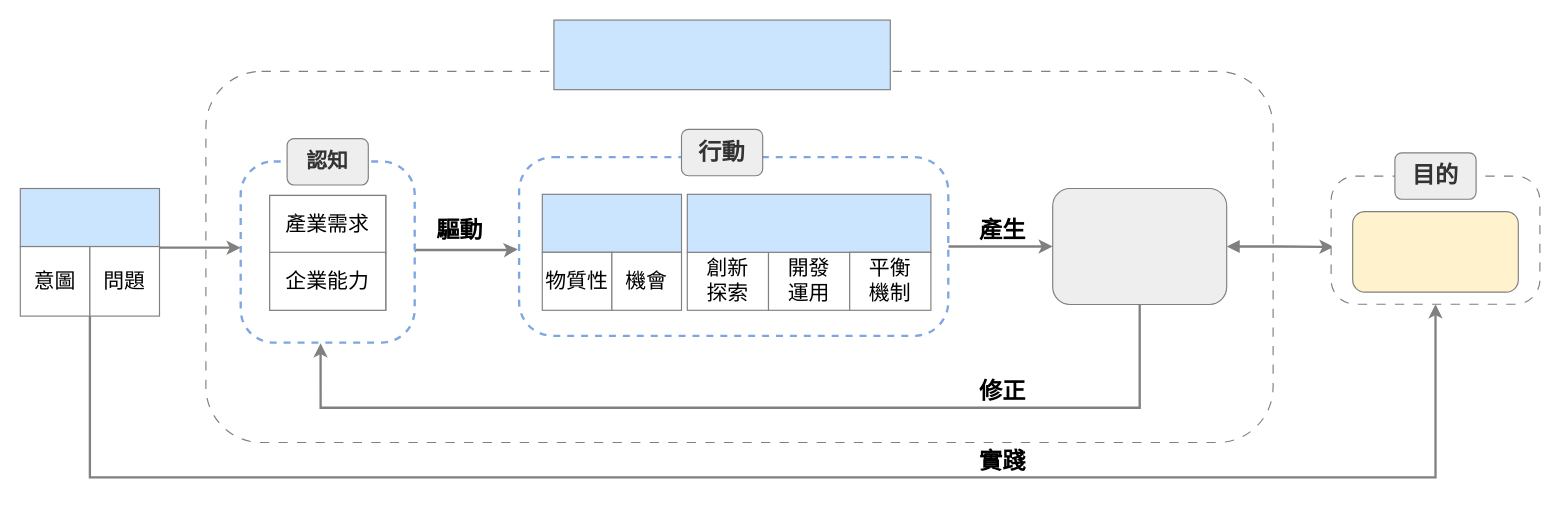
The diagram is 1560 pixels wide and 508 high, and some of its shapes have lost their labels. The shapes that lost their labels are listed below. From the top down, each one's box as (x1, y1, x2, y2) in pixels, then its label:
(553, 19, 890, 90): 科技可供性制定
(19, 187, 160, 246): 能動性
(541, 193, 682, 252): 探索 可供性
(686, 193, 931, 252): 雙元性靈巧 實現可供性
(1052, 187, 1227, 304): 平台階段性 應用成果
(1352, 210, 1518, 292): 數位紡織 產業生態系
